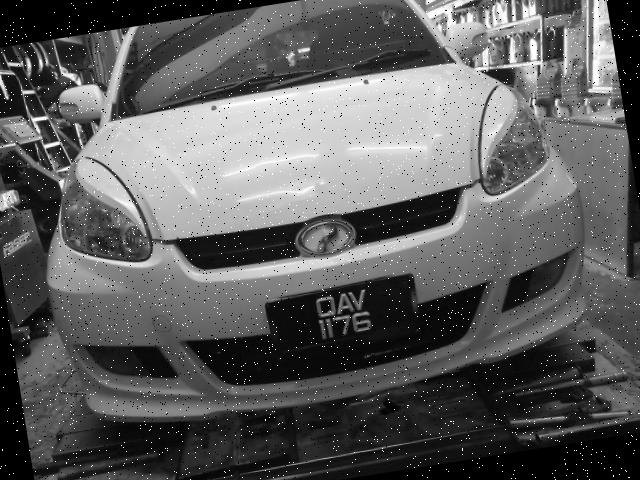License_Plate: (264, 273, 424, 362)
car: (12, 1, 614, 443)
